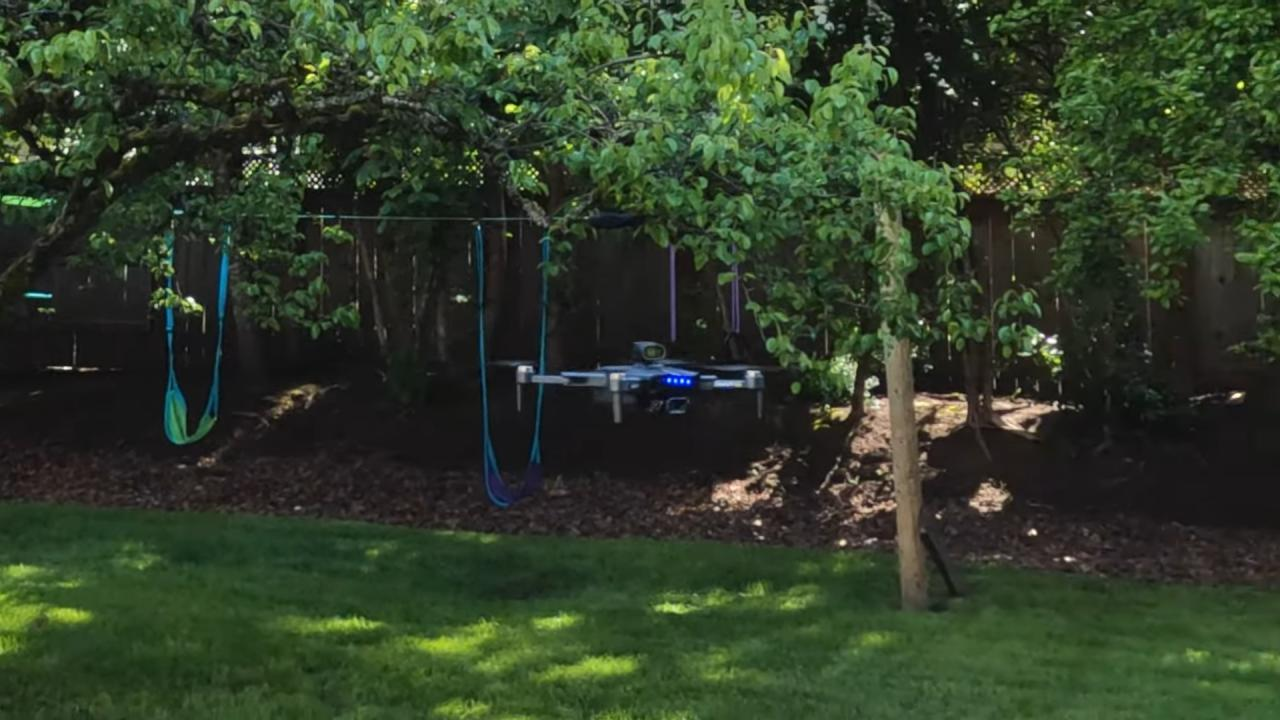Drone: (487, 314, 794, 448)
